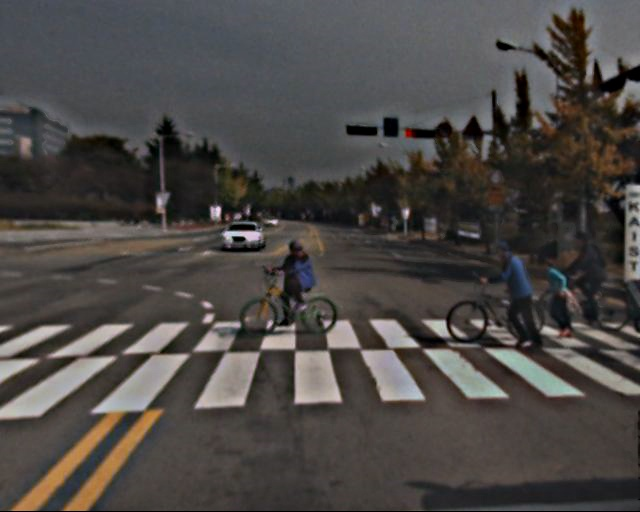person: (493, 240, 540, 354), (571, 227, 609, 319), (284, 240, 320, 329), (542, 261, 574, 340)
